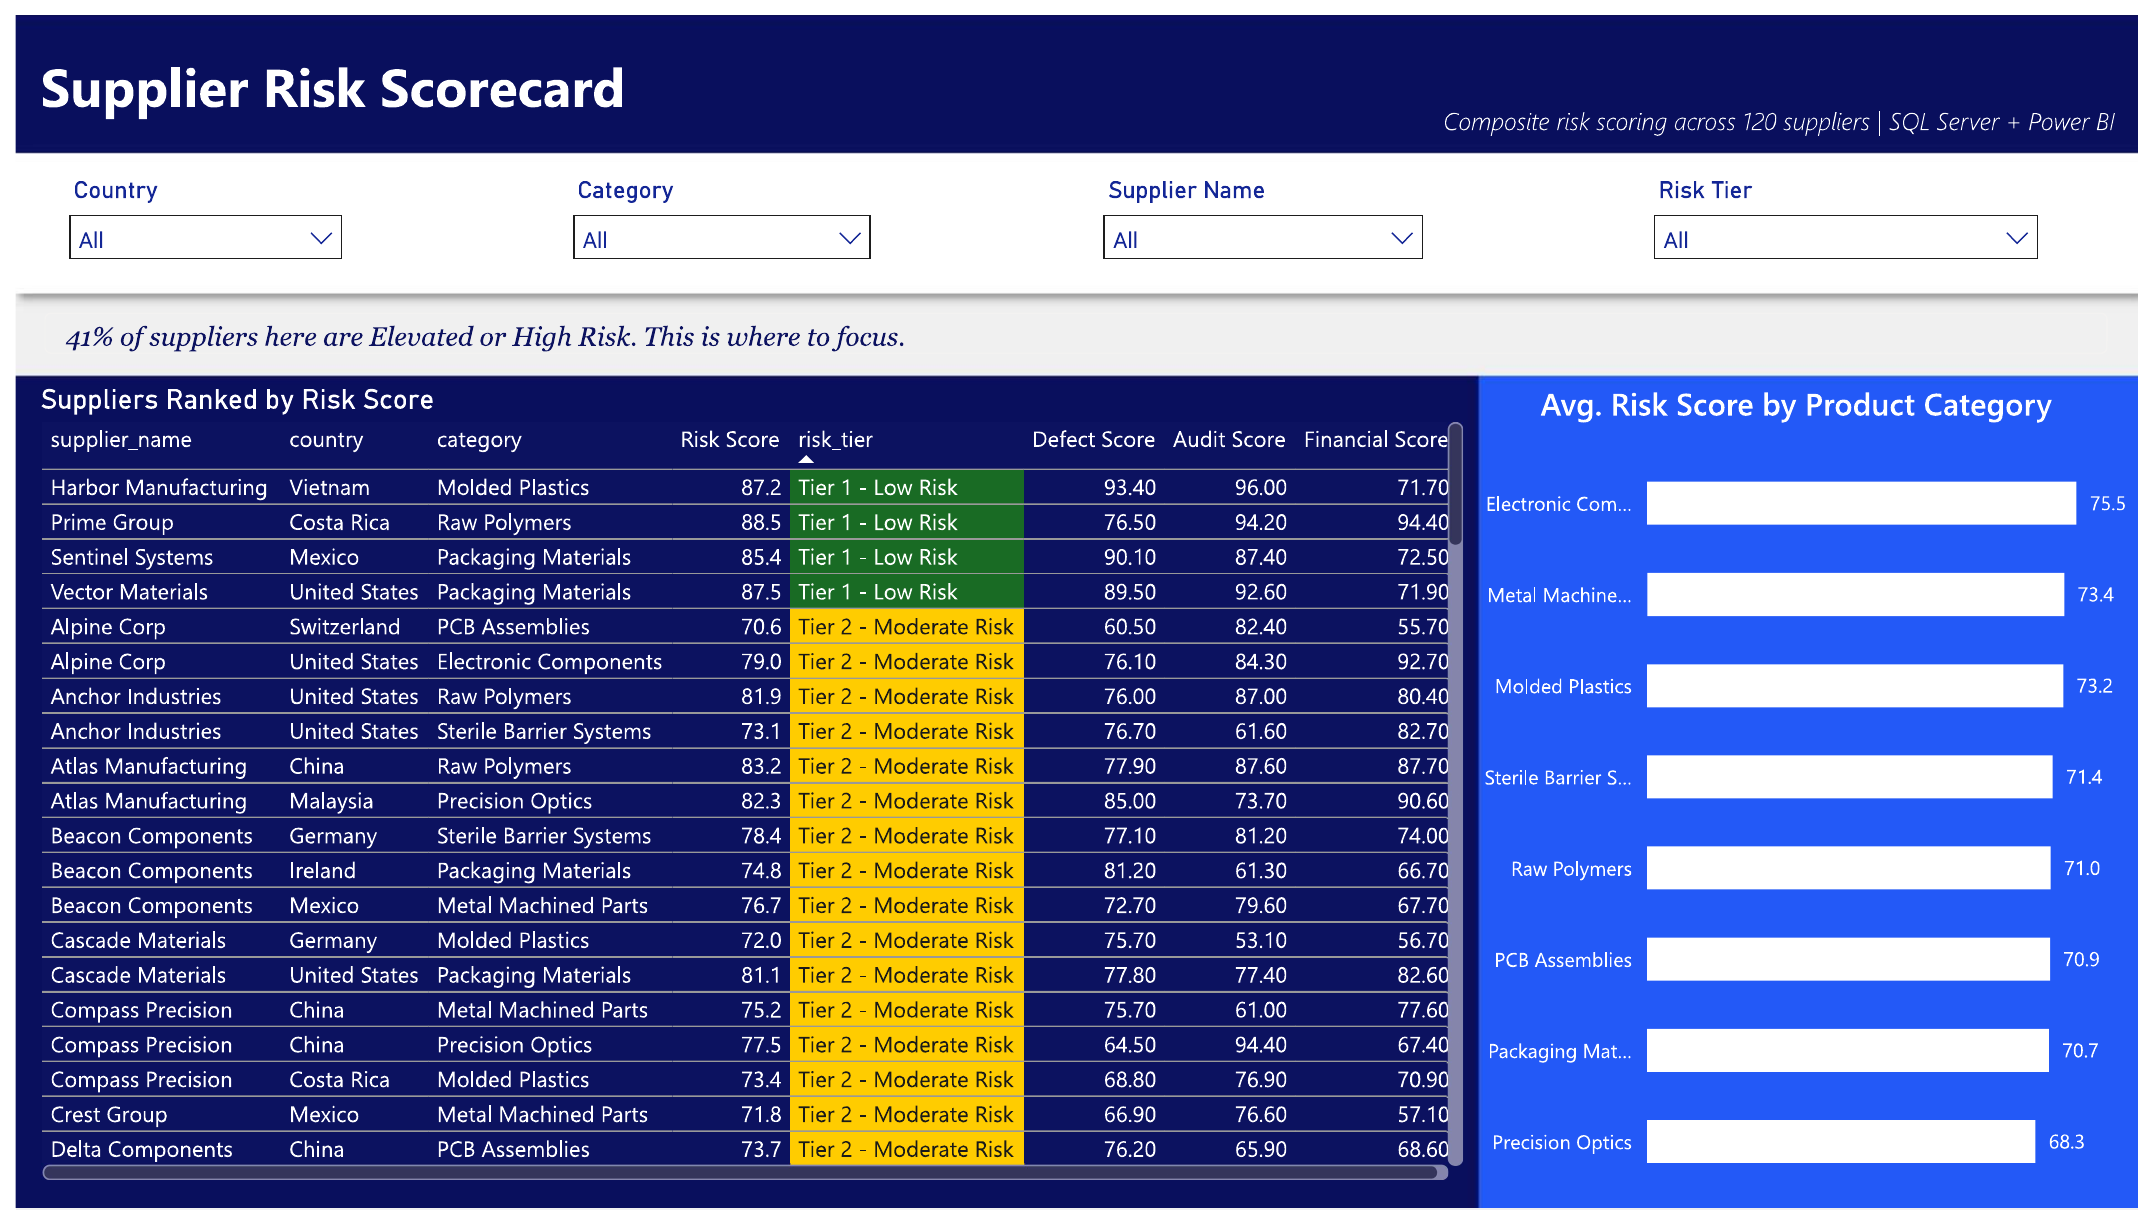

The page's visual inventory and layout, read from the dashboard file:
{"tool":"powerbi","page":{"name":"Risk Breakdown","canvas":[1280,720],"ordinal":1},"visuals":[{"type":"textbox","box":[10.1,15.1,661.8,65.4],"z":0},{"type":"textbox","box":[856.3,47.6,424.1,36],"z":1000},{"type":"slicer","fields":{"Values":["vw_supplier_risk_tiers.risk_tier"]},"box":[978.3,91.8,252.1,70.9],"z":2000},{"type":"slicer","fields":{"Values":["supplier_quality_data.country"]},"box":[22.1,91.8,184.7,69.7],"z":3000},{"type":"slicer","fields":{"Values":["supplier_risk_scores.supplier_name"]},"box":[646,91.8,212.6,69.7],"z":4000},{"type":"slicer","fields":{"Values":["supplier_quality_data.category"]},"box":[326.5,91.8,199.8,70.9],"z":5000},{"type":"cardVisual","fields":{"Data":["supplier_risk_scores.Weakest Factor Insight"]},"box":[0,162,1279,59],"z":7000},{"type":"tableEx","title":"Suppliers Ranked by Risk Score","fields":{"Values":["supplier_risk_scores.supplier_name","supplier_risk_scores.country","supplier_risk_scores.category","Avg(supplier_risk_scores.composite_risk_score)","vw_supplier_risk_tiers.risk_tier","Avg(supplier_risk_scores.defect_score)","Avg(supplier_risk_scores.audit_health_score)","Avg(supplier_risk_scores.financial_score)"]},"box":[10,221,868,486],"z":8000},{"type":"clusteredBarChart","title":"Avg. Risk Score by Product Category","fields":{"Category":["supplier_risk_scores.category"],"Y":["Avg(supplier_risk_scores.composite_risk_score)"]},"box":[869,221,410,499],"z":9000}]}

Visuals, with their boxes in screenshot pixels (x1, y1, x2, y2), scaled from the page's 1280x720 canvas onto the 2153x1225 screenshot:
textbox: left=17, top=26, right=1130, bottom=137
textbox: left=1440, top=81, right=2152, bottom=142
slicer - vw_supplier_risk_tiers.risk_tier: left=1646, top=156, right=2070, bottom=277
slicer - supplier_quality_data.country: left=37, top=156, right=348, bottom=275
slicer - supplier_risk_scores.supplier_name: left=1087, top=156, right=1444, bottom=275
slicer - supplier_quality_data.category: left=549, top=156, right=885, bottom=277
cardVisual - supplier_risk_scores.Weakest Factor Insight: left=0, top=276, right=2151, bottom=376
"Suppliers Ranked by Risk Score" tableEx: left=17, top=376, right=1477, bottom=1203
"Avg. Risk Score by Product Category" clusteredBarChart: left=1462, top=376, right=2151, bottom=1224
